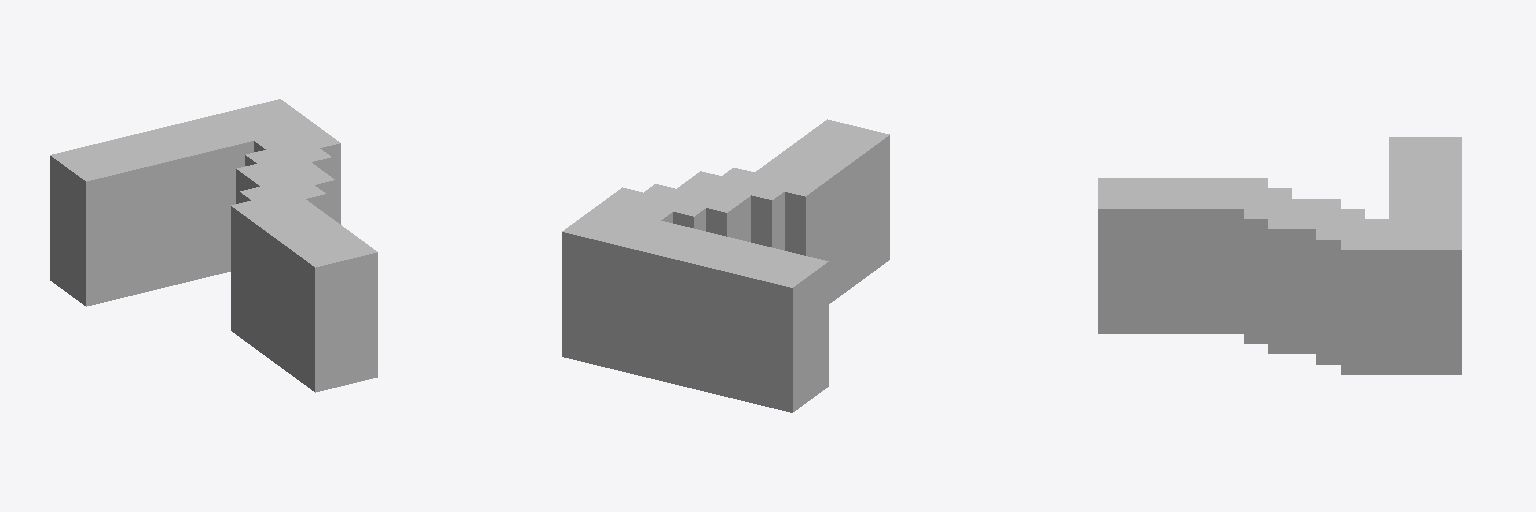
File: num_7.obj
3 renders of one model, left to right at view 1: azimuth 30°, elevation 25°; view 2: azimuth 150°, elevation 25°; view 3: azimuth 270°, elevation 25°, orthographic.
Visible parts, largest first — view 1: Text; view 2: Text; view 3: Text.
Boxes of the visible parts, <box> form: Text: <box>50,99,377,392</box>; Text: <box>562,119,889,412</box>; Text: <box>1098,137,1461,374</box>.
Bounding box in the file's own units: 0.5789 × 0.3 × 0.7895.